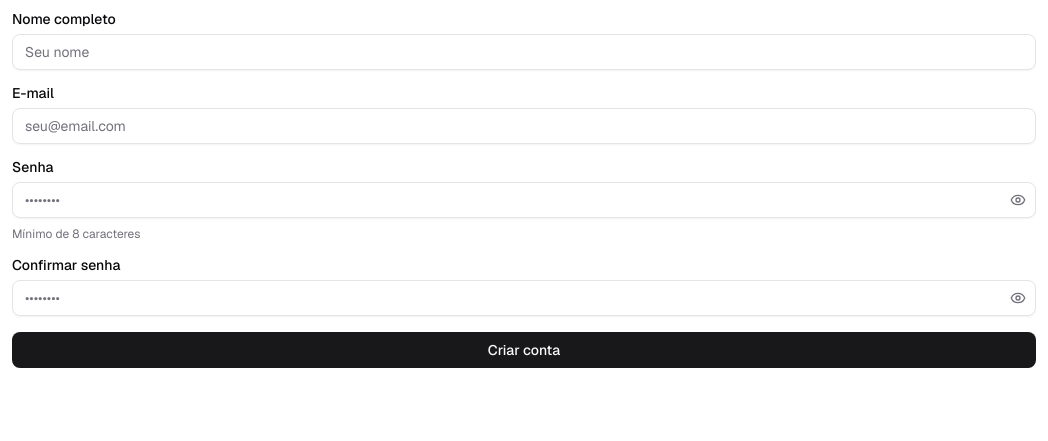
Scenario: RegisterForm › Validação de Formulário › should show error for password less than 8 characters
This screenshot has width=1048, height=441.
Type "John Doe" into the field labelled "Nome completo".
click(524, 52); type("John Doe")  # box [12,34,1036,70]
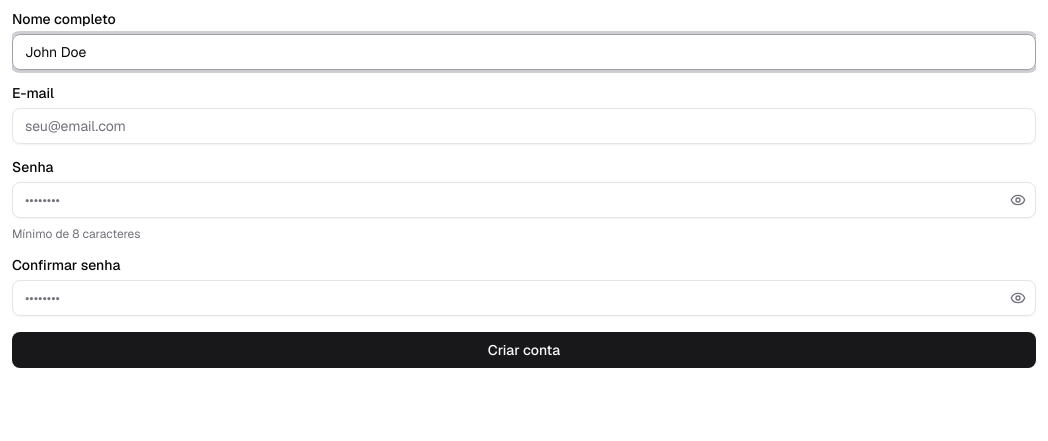
Type "john@example.com" into the field labelled "E-mail".
click(524, 126); type("john@example.com")  # box [12,108,1036,144]
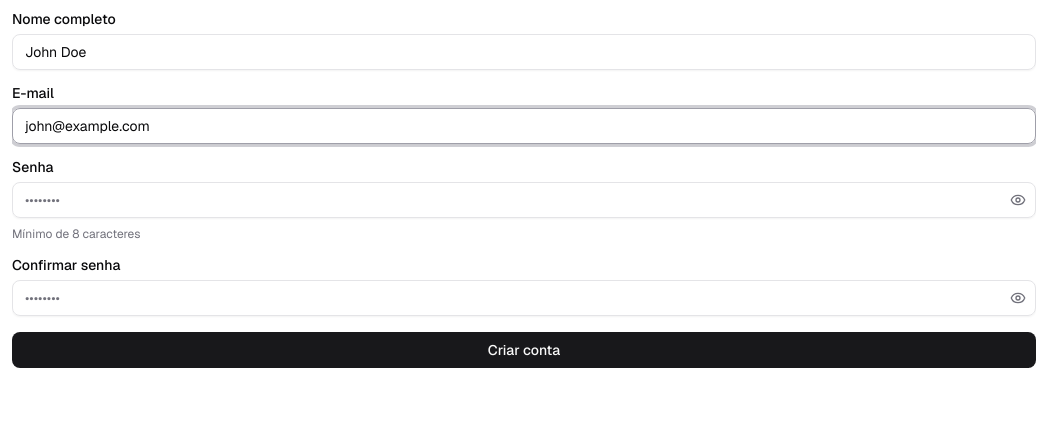
Type "1234567" into the password field labelled "Senha".
click(524, 200); type("1234567")  # box [12,182,1036,218]
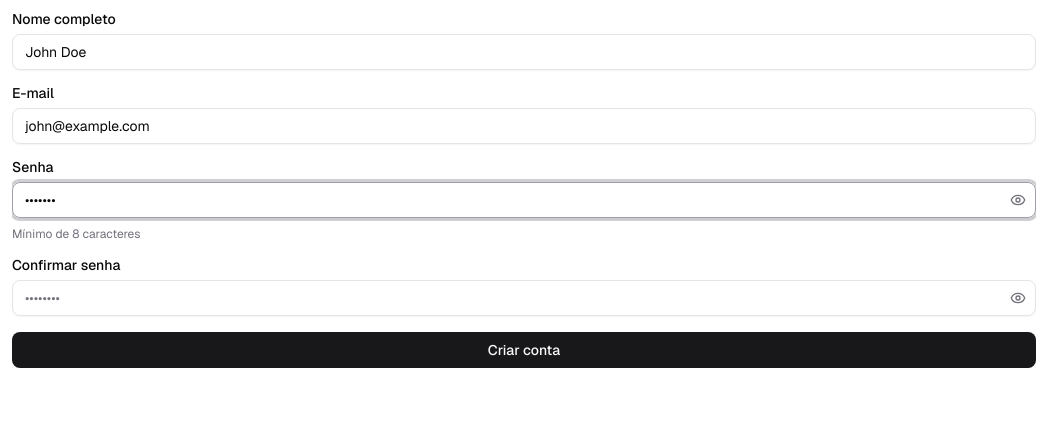
Click the button "Criar conta".
click(524, 350)  # box [12,332,1036,368]
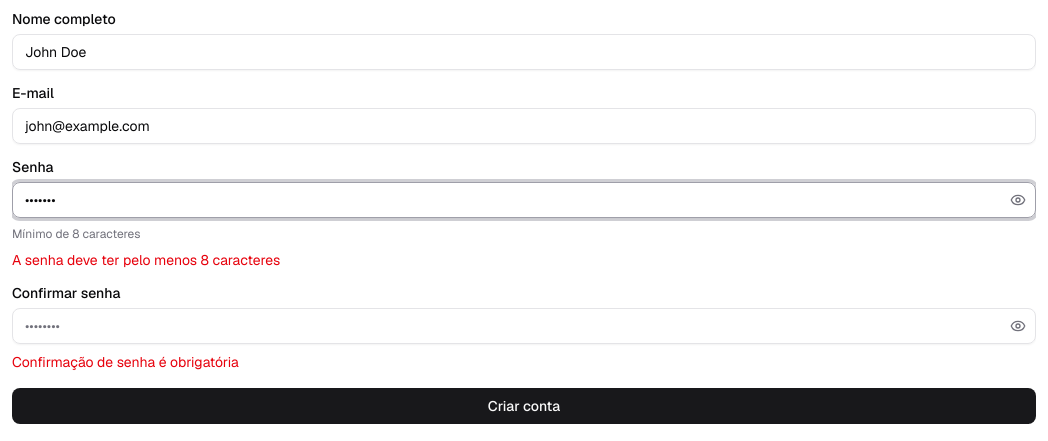
Result: the text "A senha deve ter pelo menos 8 caracteres" is shown at [12,251,280,269]
